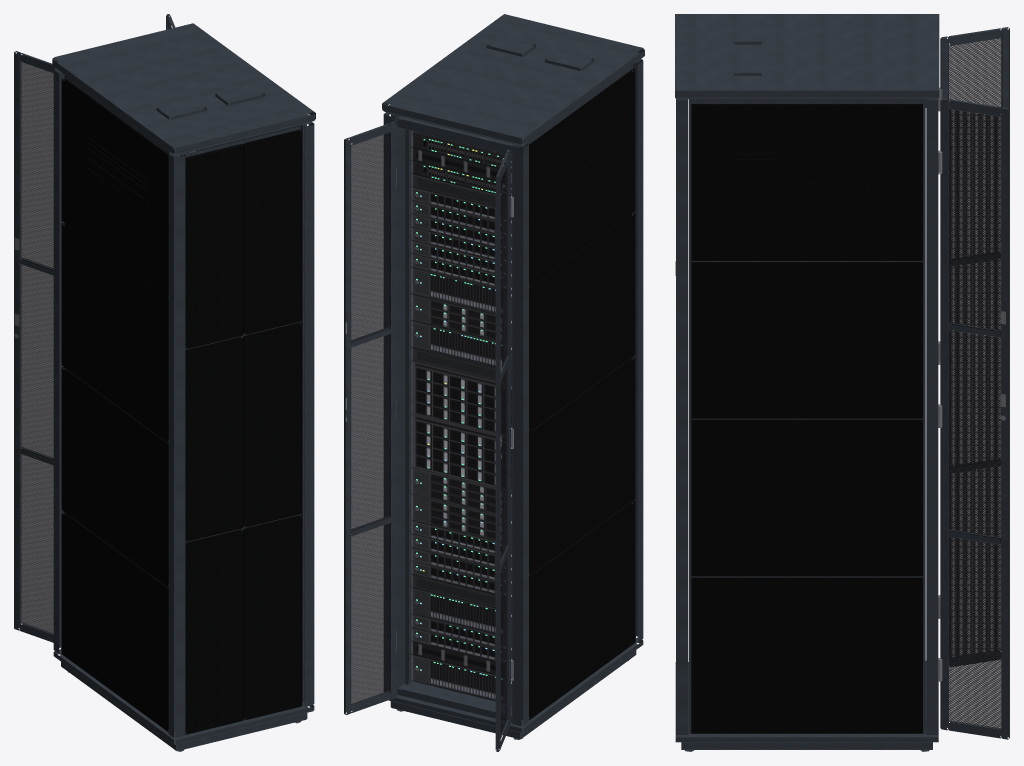
File: server_rack_far_open.glb
The picture shows the model from 3 angles, left to right: view 1: azimuth 30°, elevation 25°; view 2: azimuth 150°, elevation 25°; view 3: azimuth 270°, elevation 25°; orthographic projection. The views are drawn at different scales.
Parts seen in each view (by area): view 1: BackPanel, SidePanels, Frame, Door_XN; view 2: SidePanels, Frame, ServerFace, Door_XP, Door_XN, Rails, LEDs_Green; view 3: SidePanels, Frame, Door_XP, Door_XN.
Part boxes in pixels (bbox=[...]): BackPanel: bbox=[185, 129, 301, 734]; SidePanels: bbox=[61, 78, 168, 731]; Frame: bbox=[52, 23, 315, 751]; Door_XN: bbox=[14, 51, 55, 642]; SidePanels: bbox=[529, 68, 635, 720]; Frame: bbox=[382, 14, 644, 739]; ServerFace: bbox=[411, 131, 518, 705]; Door_XP: bbox=[344, 121, 396, 714]; Door_XN: bbox=[495, 149, 513, 751]; Rails: bbox=[405, 129, 518, 685]; LEDs_Green: bbox=[416, 139, 511, 679]; SidePanels: bbox=[691, 104, 922, 733]; Frame: bbox=[675, 14, 939, 751]; Door_XP: bbox=[938, 98, 1009, 739]; Door_XN: bbox=[938, 27, 1009, 666].
Bounding box in the file's own units: 13.47 × 50.33 × 22.86.
8 materials, 5 textured.
